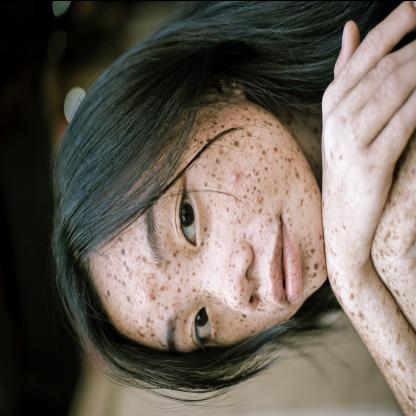Eye: (170, 182, 204, 258), (187, 306, 219, 352)
Mouth: (264, 209, 304, 314)
Nose: (204, 240, 258, 314)
